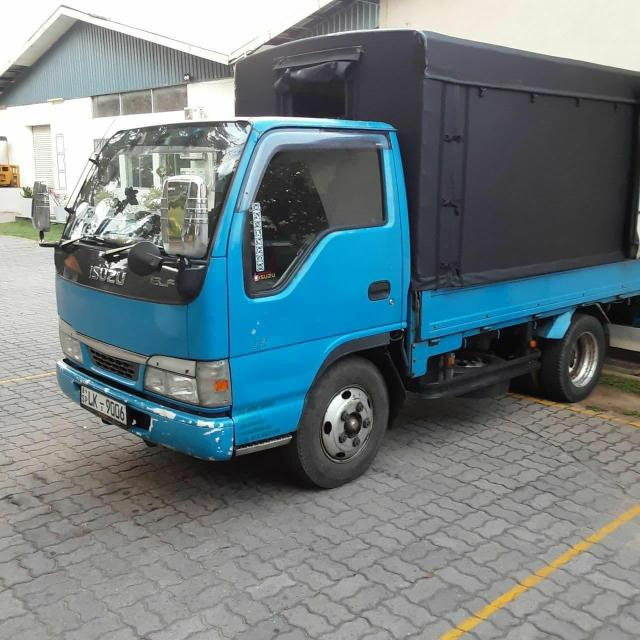truck: (52, 28, 637, 494)
